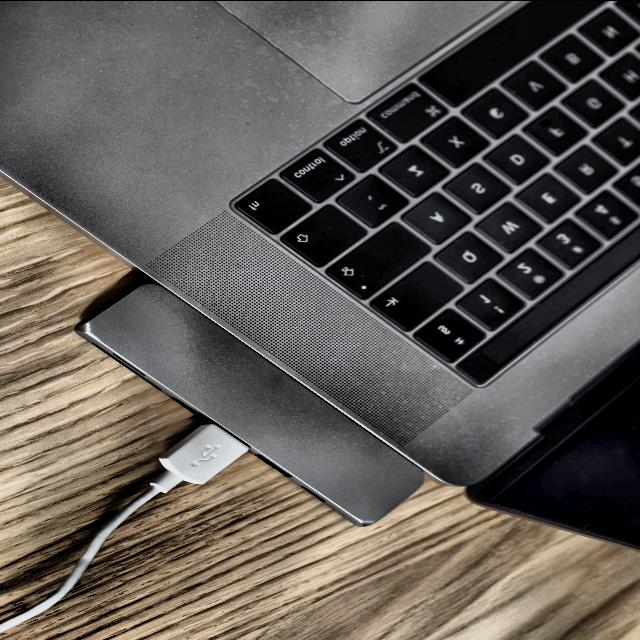HUB: (0, 283, 424, 630)
Laptop: (2, 0, 640, 548)
